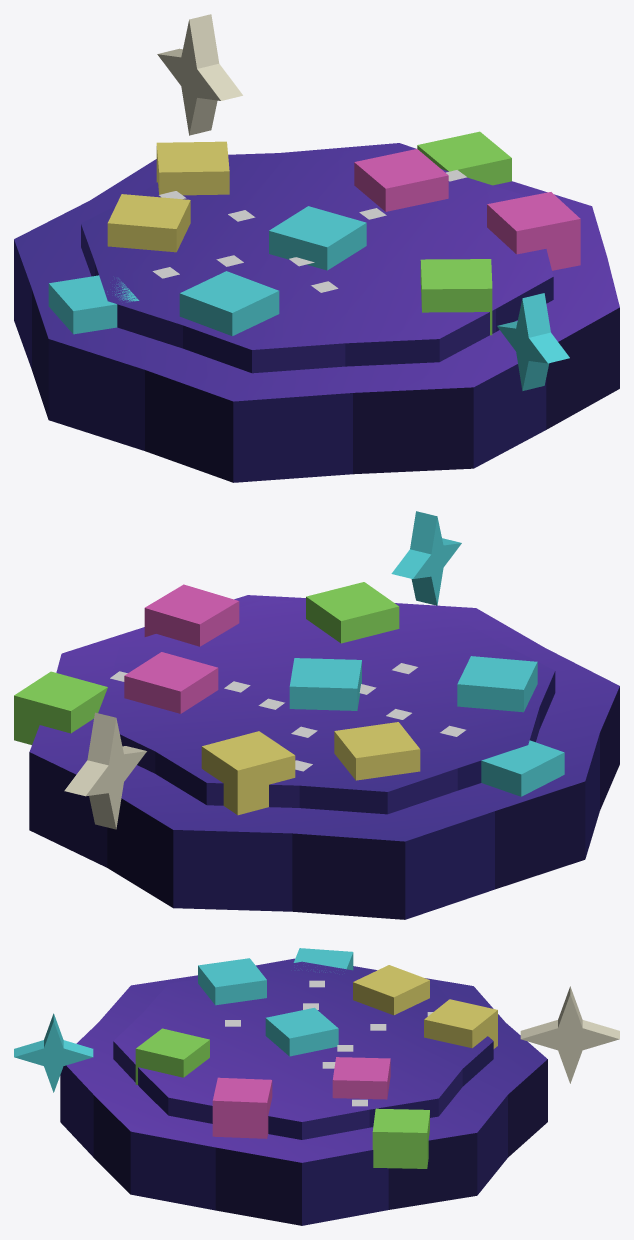
The model's file is cosmic_cookie.glb.
The picture shows the model from 3 angles, top to bottom: view 1: azimuth 30°, elevation 25°; view 2: azimuth 150°, elevation 25°; view 3: azimuth 270°, elevation 25°; orthographic projection. The views are drawn at different scales.
Parts seen in each view (by area): view 1: cosmic_cookie; view 2: cosmic_cookie; view 3: cosmic_cookie.
Part boxes in pixels (x1,y1,x2,y2): cosmic_cookie: (14,14,619,482); cosmic_cookie: (14,511,619,919); cosmic_cookie: (14,948,619,1225).
Bounding box in the file's own units: 0.4015 × 0.1393 × 0.5.
